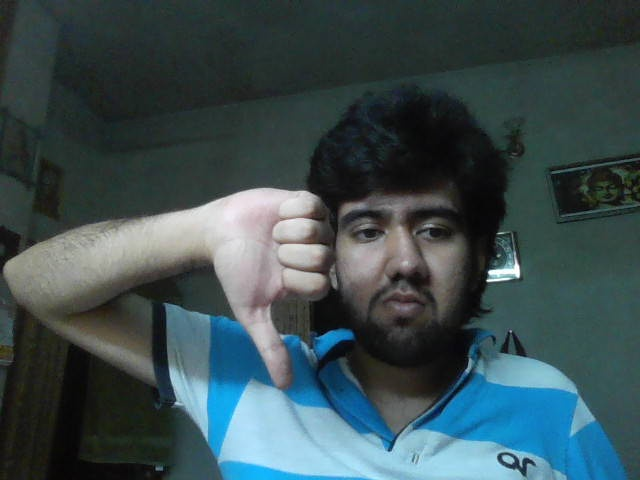NotOk: (219, 187, 336, 388)
